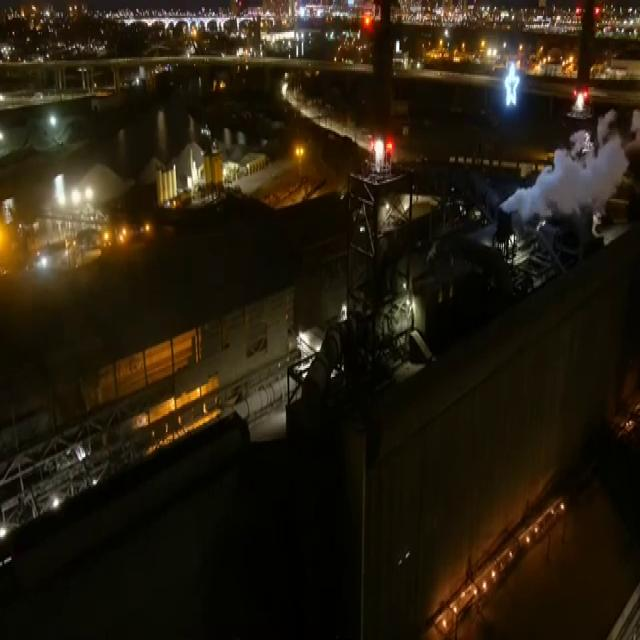smoke: (501, 110, 633, 240)
